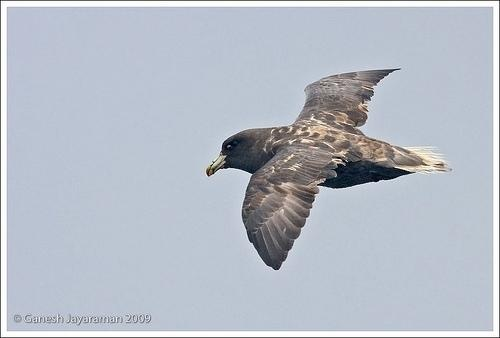bird: (203, 64, 452, 267)
